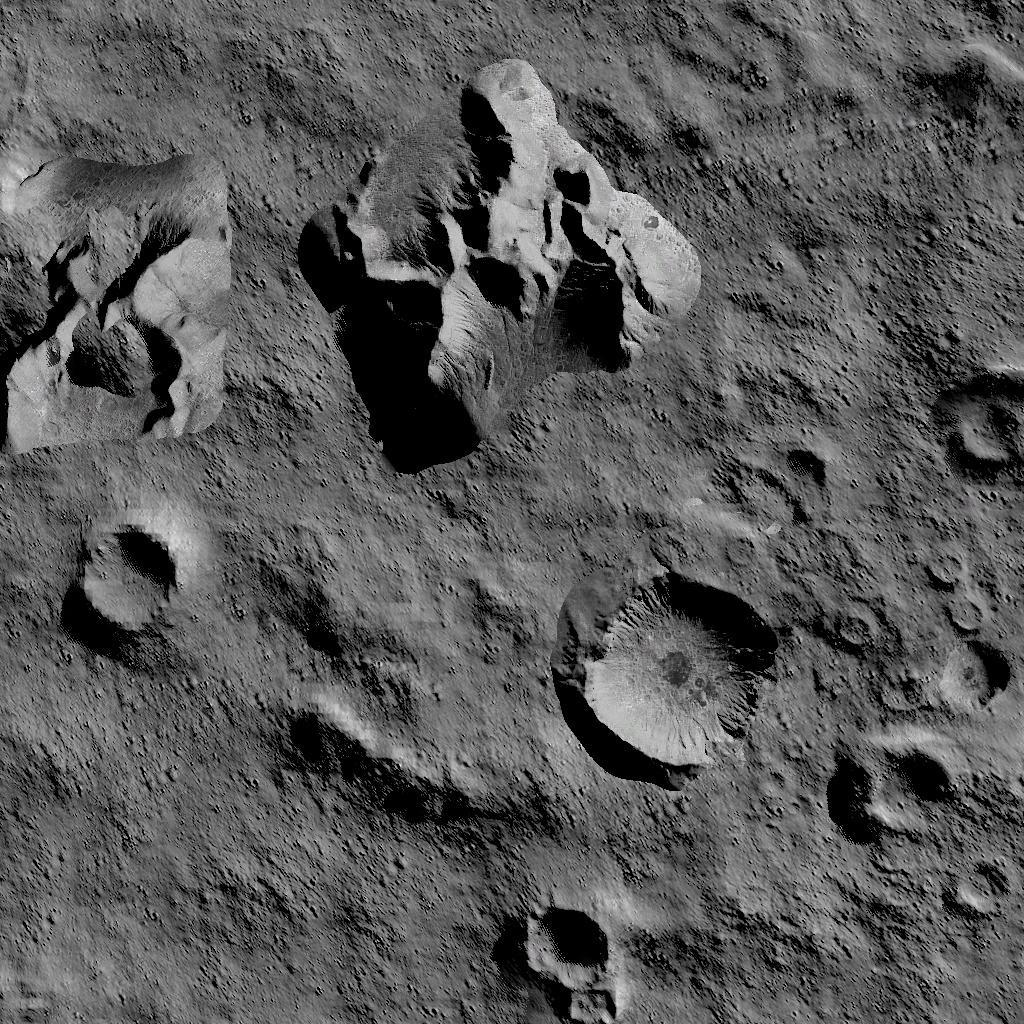Boulders: (301, 60, 700, 473), (0, 148, 231, 452), (280, 698, 566, 832), (908, 0, 1024, 125)
Crater: (578, 570, 776, 778), (826, 730, 965, 838), (521, 892, 623, 1024), (68, 522, 183, 636), (938, 368, 1024, 468), (951, 855, 1013, 920)
Plan surface: (0, 650, 268, 1024), (283, 845, 508, 1024), (0, 0, 288, 135)
